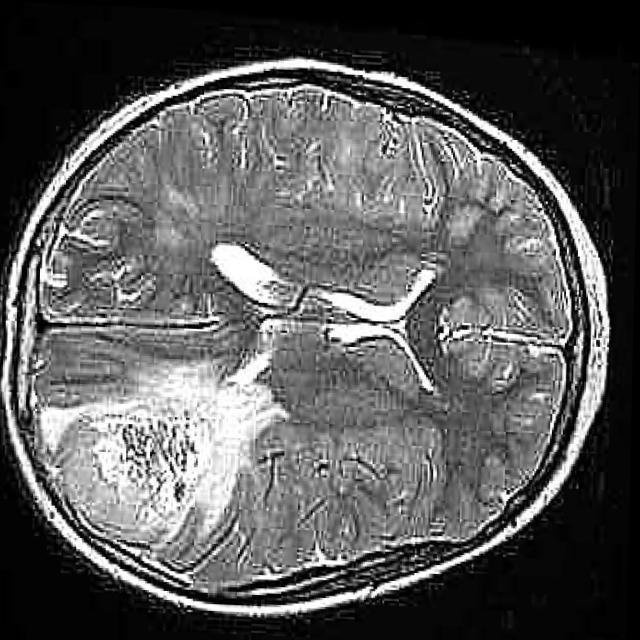Tumor: (39, 358, 289, 543)
